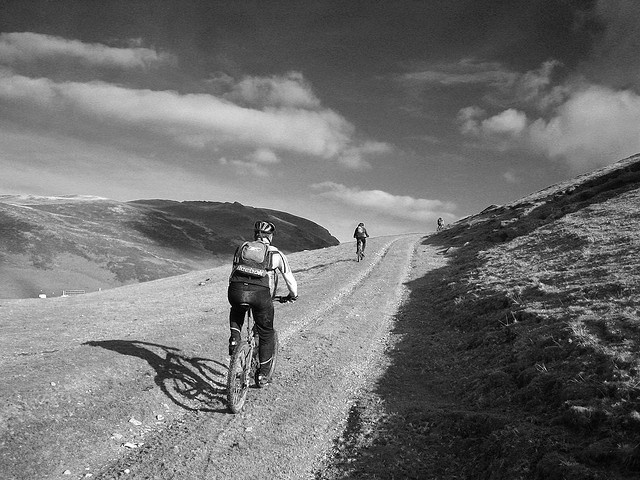non-vehicle: (227, 295, 300, 416), (357, 239, 362, 261), (437, 224, 443, 231)
